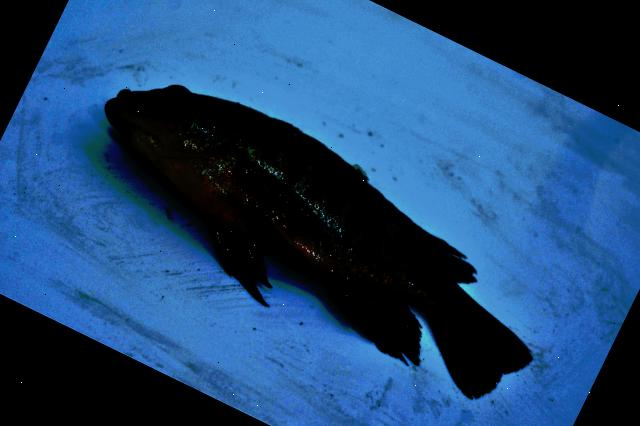Columnaris Disease: (104, 85, 530, 397)
